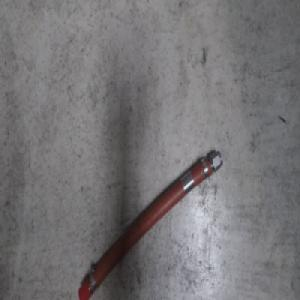Hose: (76, 144, 223, 300)
